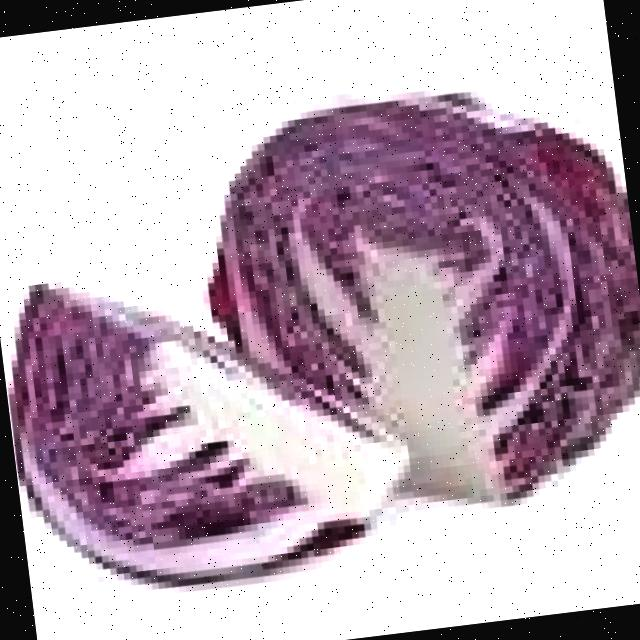cabbage: (199, 64, 640, 528), (0, 227, 413, 601)
